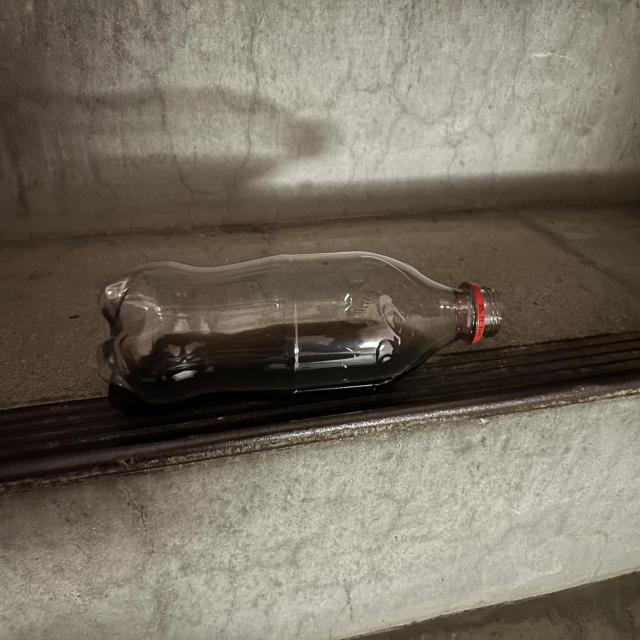low: (98, 251, 502, 403)
